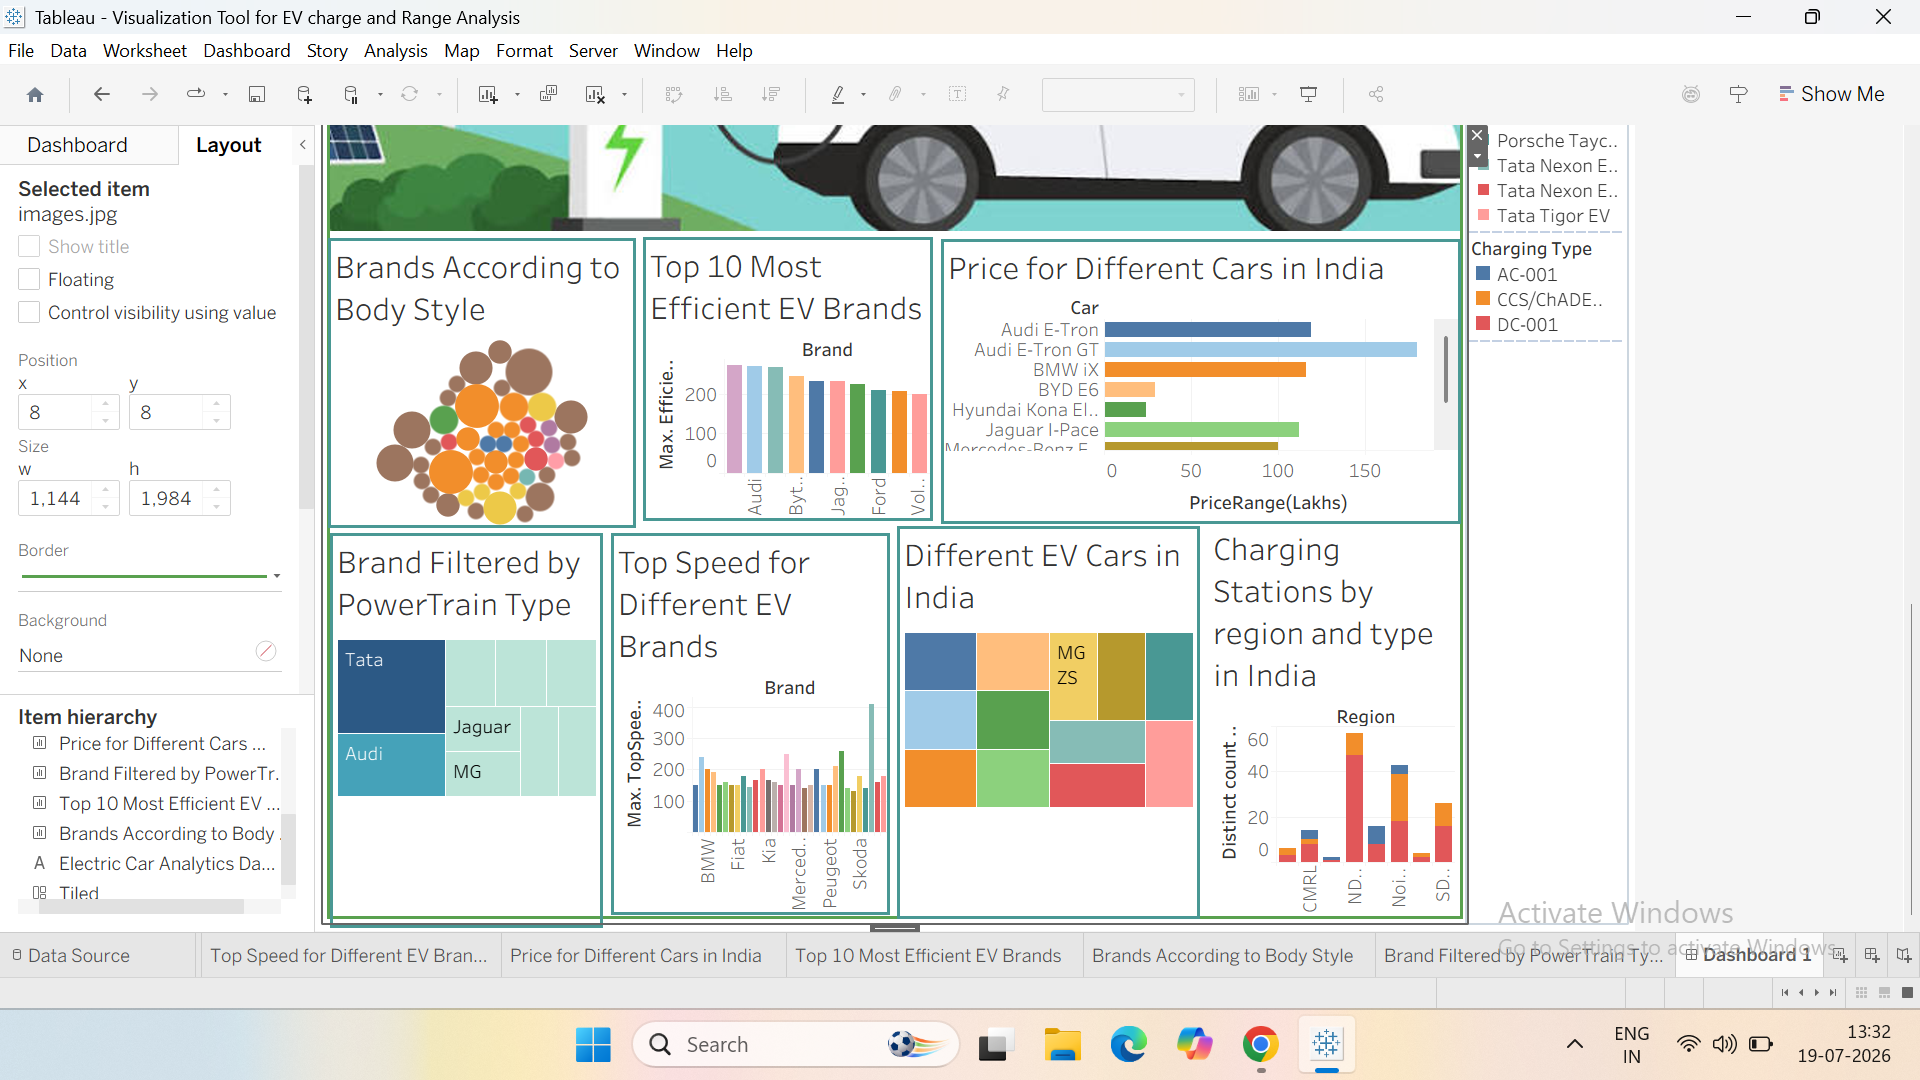

The page's visual inventory and layout, read from the dashboard file:
{"tool":"tableau","page":{"name":"Dashboard 1","canvas":[1320,2000],"ordinal":0},"visuals":[{"type":"image","param":"C:/Users/Dell/Downloads/images.jpg","box":[8,8,1144,1984]},{"type":"legend","title":"Brands According to Body Style","param":"[federated.0ya0cjs1axgyds1dko8c41f87ghl].[none:BodyStyle:nk]","box":[1152,8,160,259]},{"type":"legend","title":"Brand Filtered by PowerTrain Type","param":"[federated.1bqs21r00vcd321e6h50x05ptkq7].[cnt:Car:qk]","box":[1152,267,160,81]},{"type":"legend","title":"Price for Different Cars in India","param":"[federated.0lsyow51jxy3ln1dkd33g1r6e04p].[none:Car:nk]","box":[1152,348,160,334]},{"type":"legend","title":"Top 10 Most Efficient EV Brands","param":"[federated.0ya0cjs1axgyds1dko8c41f87ghl].[none:Brand:nk]","box":[1152,682,160,284]},{"type":"text","box":[193,783,355,202]},{"type":"text","box":[790,784,324,195]},{"type":"legend","title":"Different EV Cars in India","param":"[federated.1bqs21r00vcd321e6h50x05ptkq7].[none:Car:nk]","box":[1152,966,160,334]},{"type":"legend","title":"Charging Stations by region and type in India","param":"[federated.1fryw7e11vqt4b16mi9nc170hohf].[none:type:nk]","box":[1152,1300,160,509]},{"type":"worksheet","title":"Top 10 Most Efficient EV Brands","mark":"Automatic","rows":["Efficiency_WhKm"],"cols":["Brand"],"box":[328,1306,290,284]},{"type":"worksheet","title":"Brands According to Body Style","mark":"Circle","box":[13,1307,308,290]},{"type":"worksheet","title":"Price for Different Cars in India","mark":"Automatic","rows":["Car"],"cols":["PriceRange(Lakhs)"],"box":[626,1308,520,285]},{"type":"worksheet","title":"Charging Stations by region and type in India","mark":"Automatic","rows":["aux addres"],"cols":["region"],"box":[894,1592,246,392]},{"type":"worksheet","title":"Different EV Cars in India","mark":"Automatic","box":[582,1595,303,393]},{"type":"worksheet","title":"Brand Filtered by PowerTrain Type","mark":"Automatic","box":[15,1602,273,395]},{"type":"worksheet","title":"Top Speed for Different EV Brands","mark":"Automatic","rows":["TopSpeed_KmH"],"cols":["Brand"],"box":[296,1602,279,382]}]}

Visuals, with their boxes on the page's 1320x2000 design canvas (x1, y1, x2, y2). These are canvas units, not pixel positions in the 1920x1080 screenshot, which may show the page scaled, cropped or inside an application window:
image: {"left": 8, "top": 8, "right": 1152, "bottom": 1992}
"Brands According to Body Style" legend: {"left": 1152, "top": 8, "right": 1312, "bottom": 267}
"Brand Filtered by PowerTrain Type" legend: {"left": 1152, "top": 267, "right": 1312, "bottom": 348}
"Price for Different Cars in India" legend: {"left": 1152, "top": 348, "right": 1312, "bottom": 682}
"Top 10 Most Efficient EV Brands" legend: {"left": 1152, "top": 682, "right": 1312, "bottom": 966}
text: {"left": 193, "top": 783, "right": 548, "bottom": 985}
text: {"left": 790, "top": 784, "right": 1114, "bottom": 979}
"Different EV Cars in India" legend: {"left": 1152, "top": 966, "right": 1312, "bottom": 1300}
"Charging Stations by region and type in India" legend: {"left": 1152, "top": 1300, "right": 1312, "bottom": 1809}
"Top 10 Most Efficient EV Brands" worksheet: {"left": 328, "top": 1306, "right": 618, "bottom": 1590}
"Brands According to Body Style" worksheet (Circle marks): {"left": 13, "top": 1307, "right": 321, "bottom": 1597}
"Price for Different Cars in India" worksheet: {"left": 626, "top": 1308, "right": 1146, "bottom": 1593}
"Charging Stations by region and type in India" worksheet: {"left": 894, "top": 1592, "right": 1140, "bottom": 1984}
"Different EV Cars in India" worksheet: {"left": 582, "top": 1595, "right": 885, "bottom": 1988}
"Brand Filtered by PowerTrain Type" worksheet: {"left": 15, "top": 1602, "right": 288, "bottom": 1997}
"Top Speed for Different EV Brands" worksheet: {"left": 296, "top": 1602, "right": 575, "bottom": 1984}
